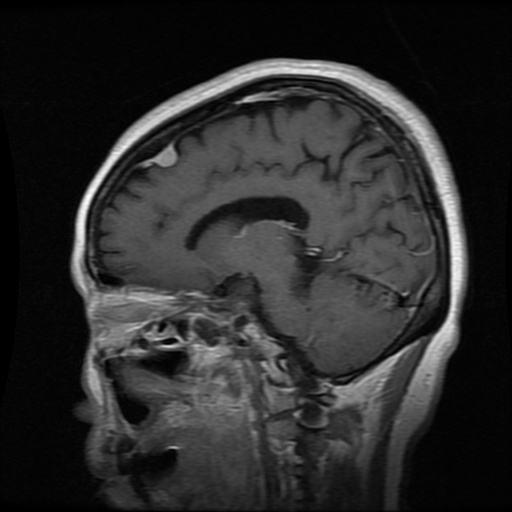meningioma: (152, 144, 177, 165)
